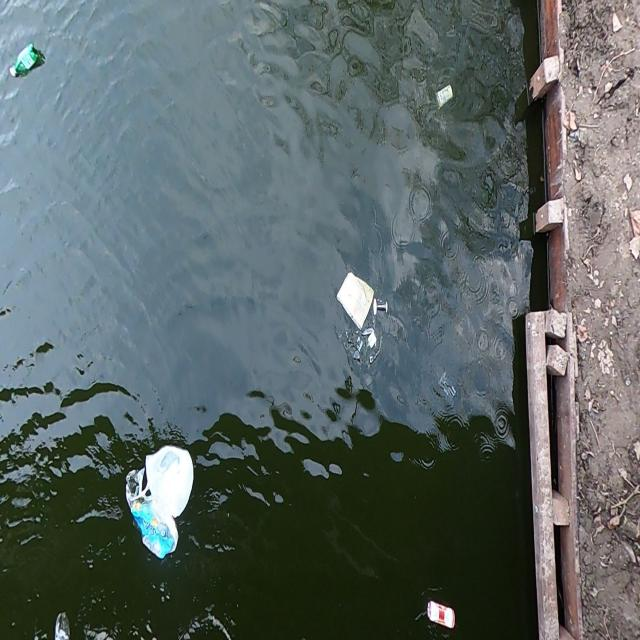Bouteille plastique: (6, 38, 44, 82)
Non plastique: (423, 595, 458, 636), (373, 298, 391, 320)
Sac plastique: (114, 474, 186, 575), (138, 436, 202, 528)
